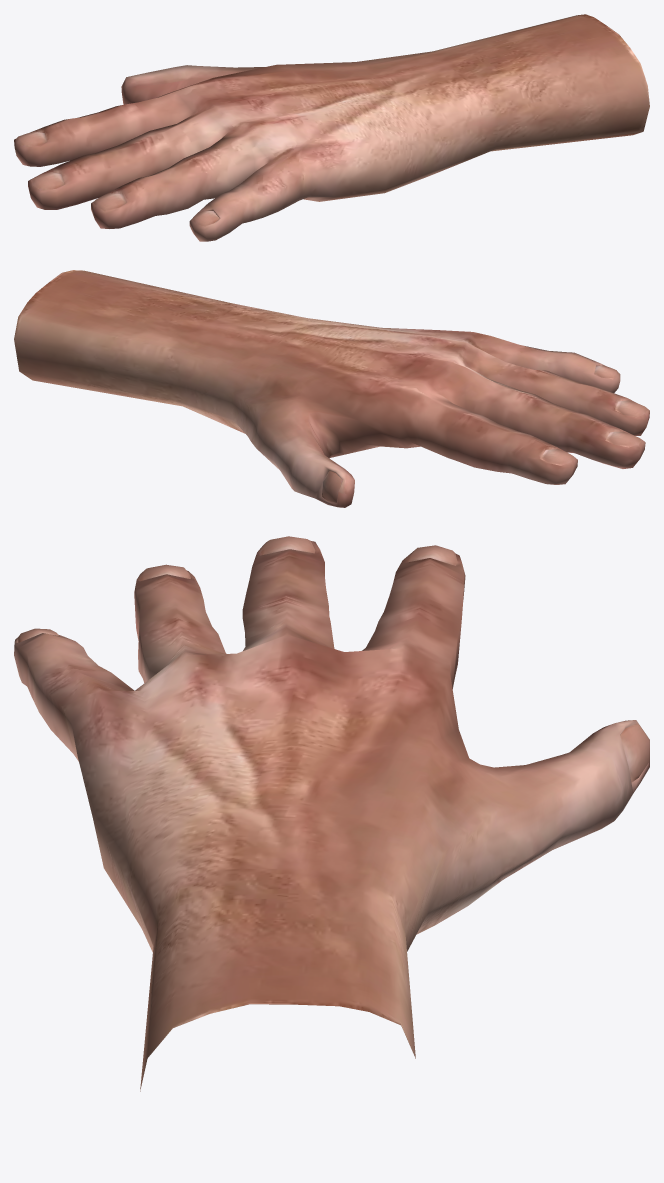
Rendered from hand.glb.
The picture shows the model from 3 angles, top to bottom: view 1: azimuth 30°, elevation 25°; view 2: azimuth 150°, elevation 25°; view 3: azimuth 270°, elevation 25°; orthographic projection. The views are drawn at different scales.
Visible parts, largest first — view 1: Cube_002_0; view 2: Cube_002_0; view 3: Cube_002_0.
Boxes of the visible parts, x1,y1,x2,y2 form: Cube_002_0: [14, 14, 649, 241]; Cube_002_0: [14, 270, 649, 507]; Cube_002_0: [14, 536, 649, 1091].
Bounding box in the file's own units: 0.256 × 0.0457 × 0.1369.
Materials: 1 (1 with a texture image).
